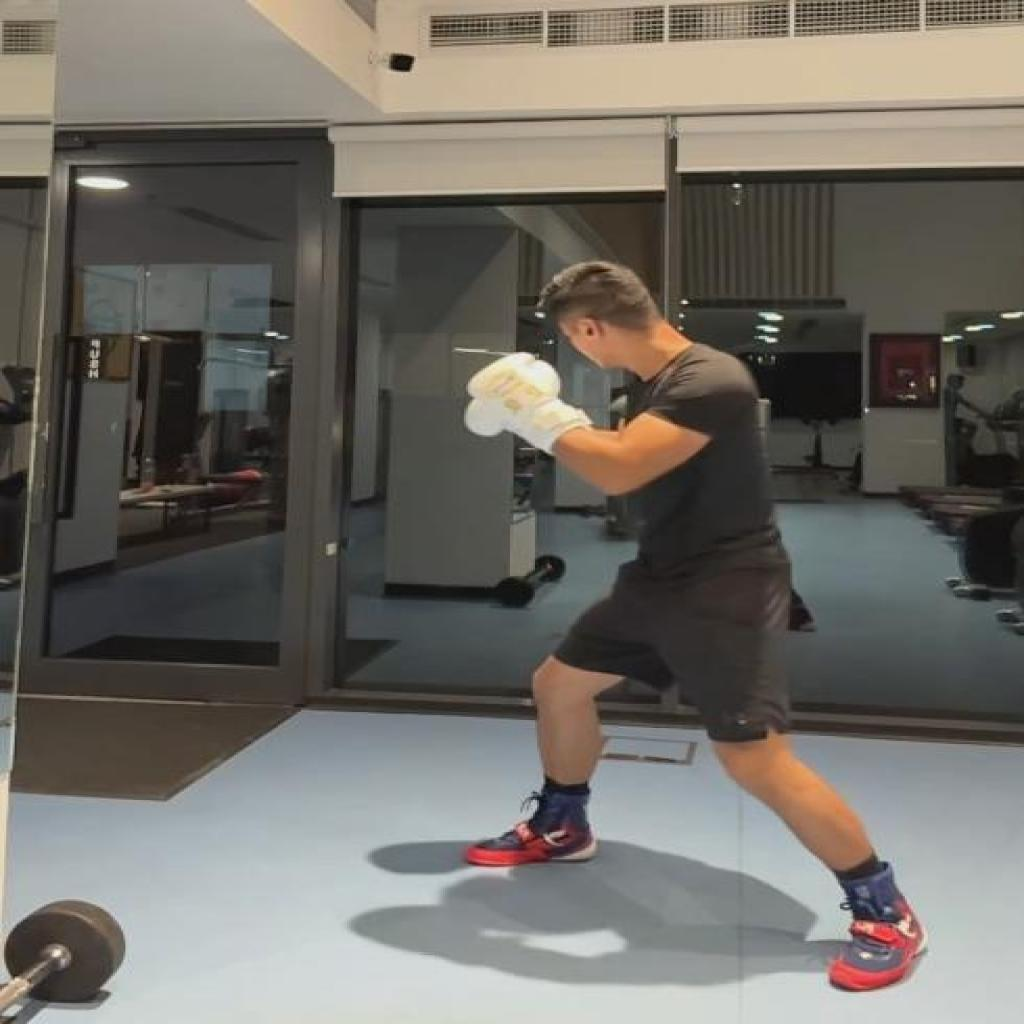no punch: (464, 262, 934, 997)
